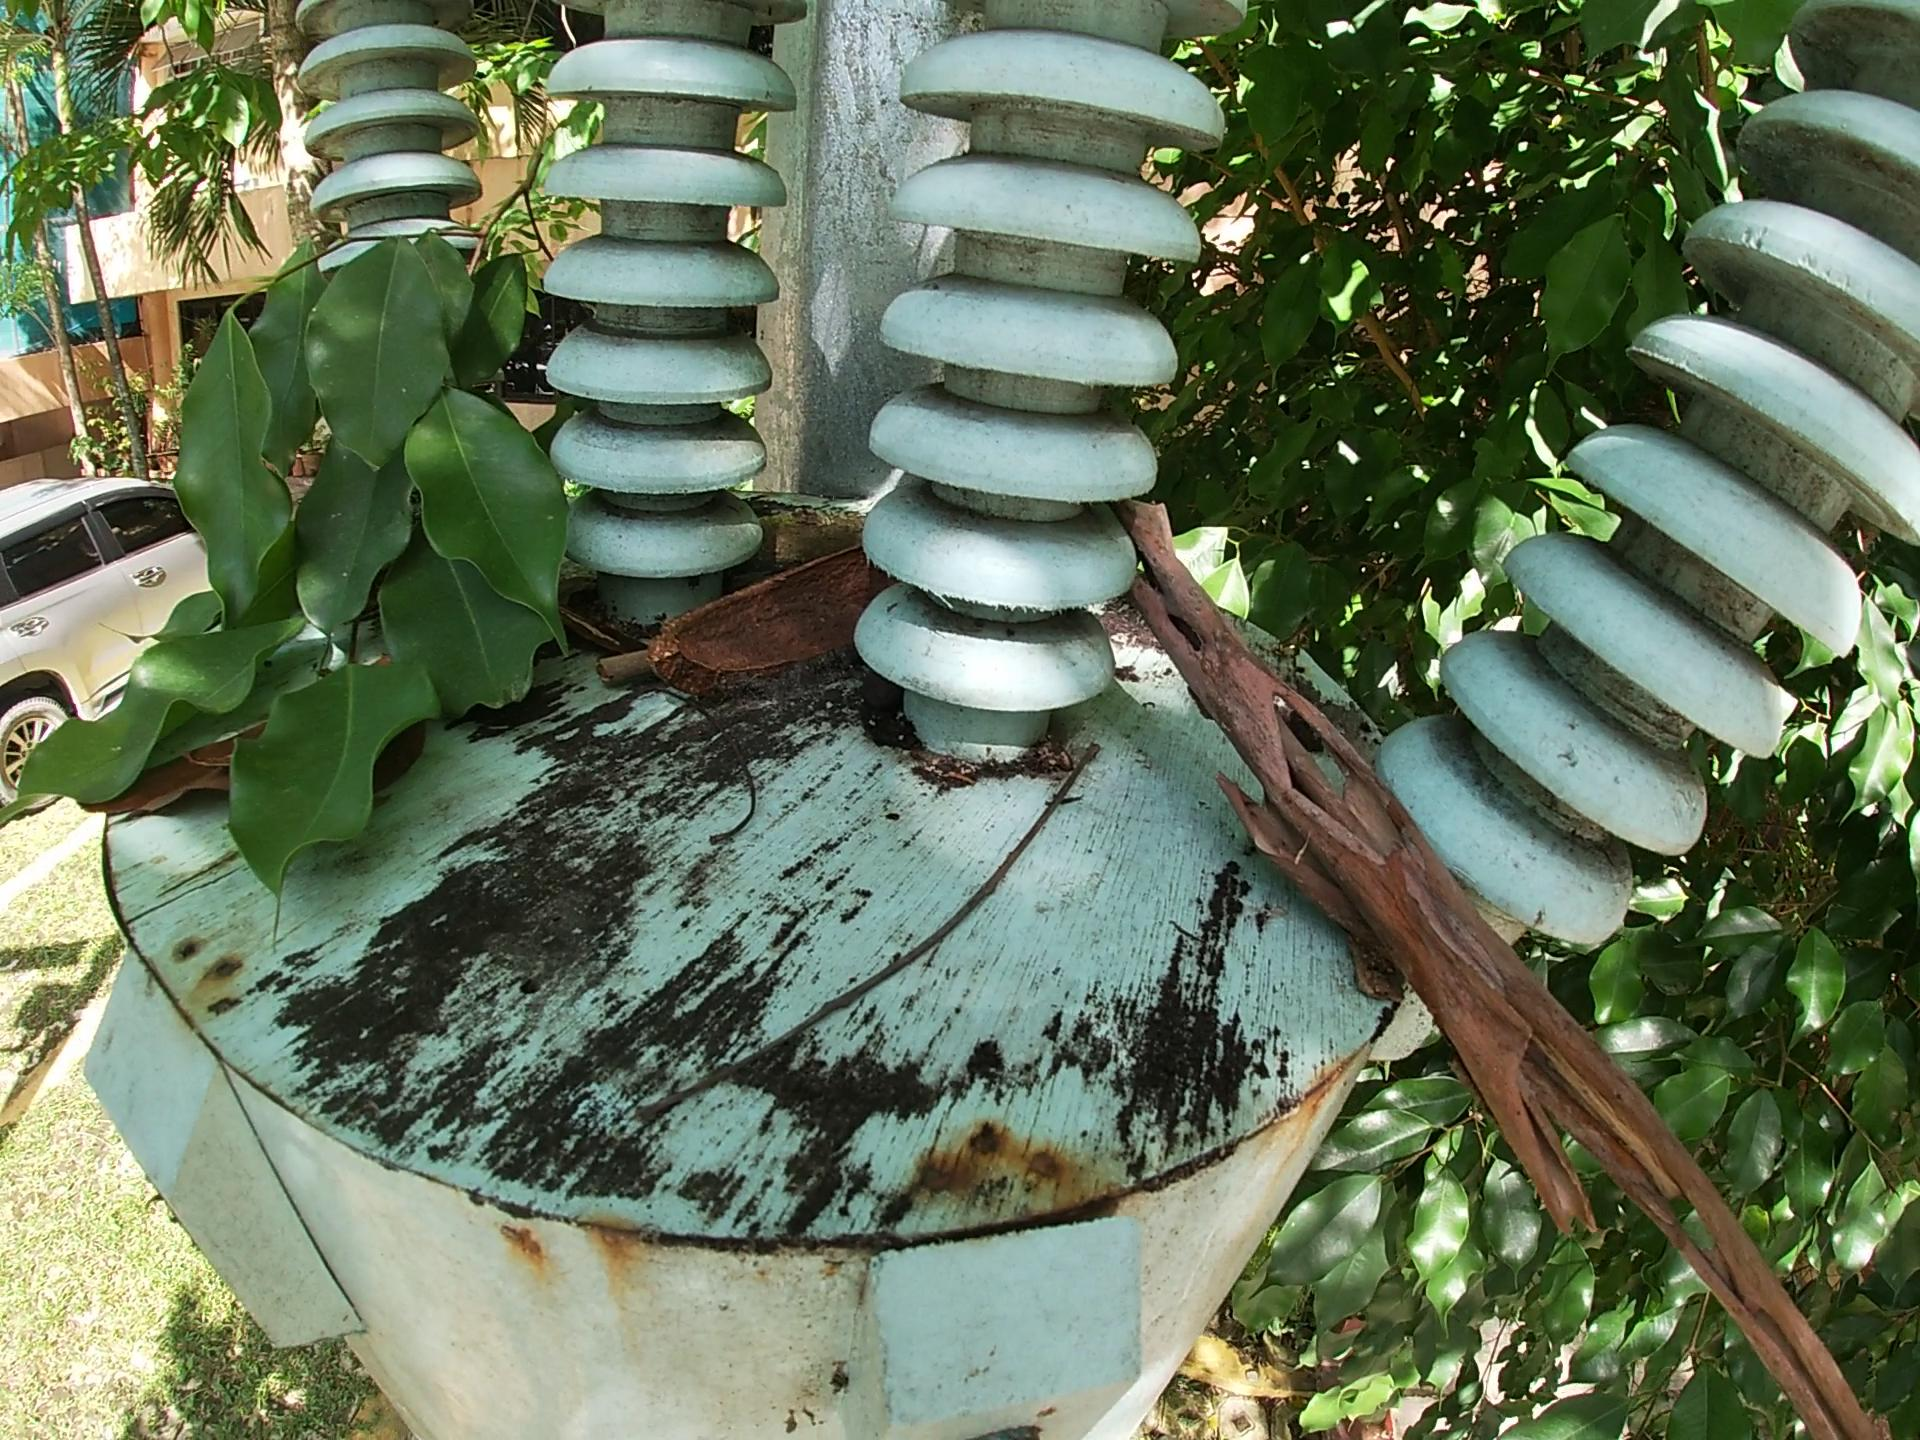branch with leaves: (2, 126, 587, 951)
leaf: (109, 753, 234, 855)
mahogany fruit: (632, 545, 898, 696)
tree branch: (1126, 498, 1894, 1434), (612, 740, 1098, 1137), (652, 696, 807, 855), (735, 493, 901, 572), (590, 650, 647, 691)
